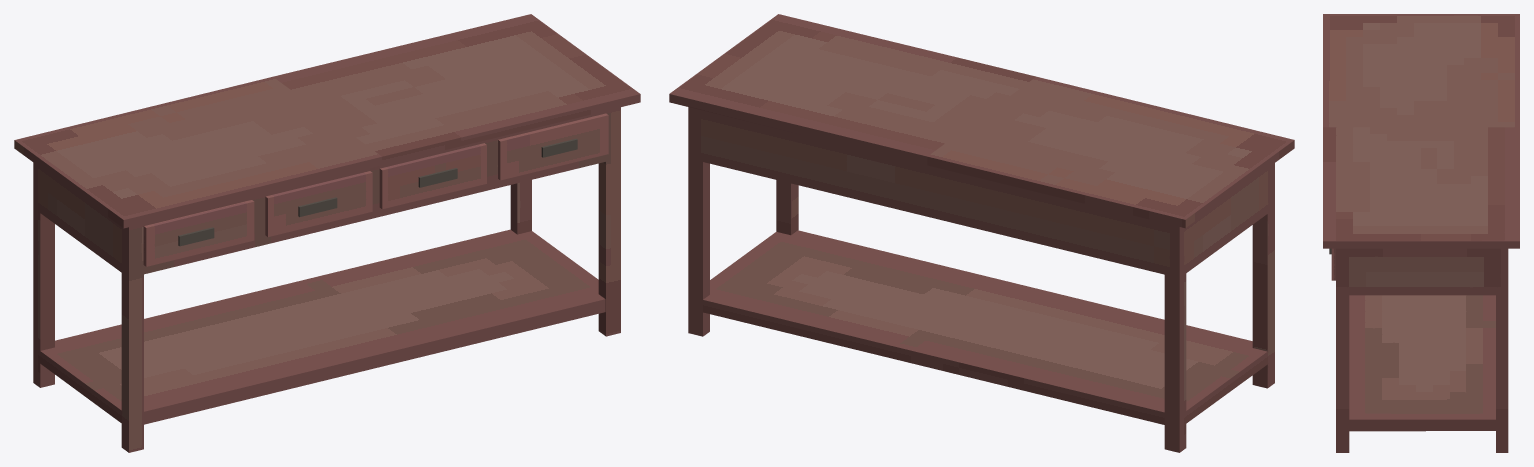
Rendered from Fix.fbx.
3 renders of one model, left to right at view 1: azimuth 30°, elevation 25°; view 2: azimuth 150°, elevation 25°; view 3: azimuth 270°, elevation 25°, orthographic. The views are drawn at different scales.
Parts seen in each view (by area): view 1: Side table; view 2: Side table; view 3: Side table.
Part boxes in pixels (bbox=[...]): Side table: bbox=[14, 14, 640, 452]; Side table: bbox=[669, 14, 1294, 452]; Side table: bbox=[1323, 14, 1519, 452].
Bounding box in the file's own units: 426 × 190 × 156.
Materials: 1 (1 with a texture image).
